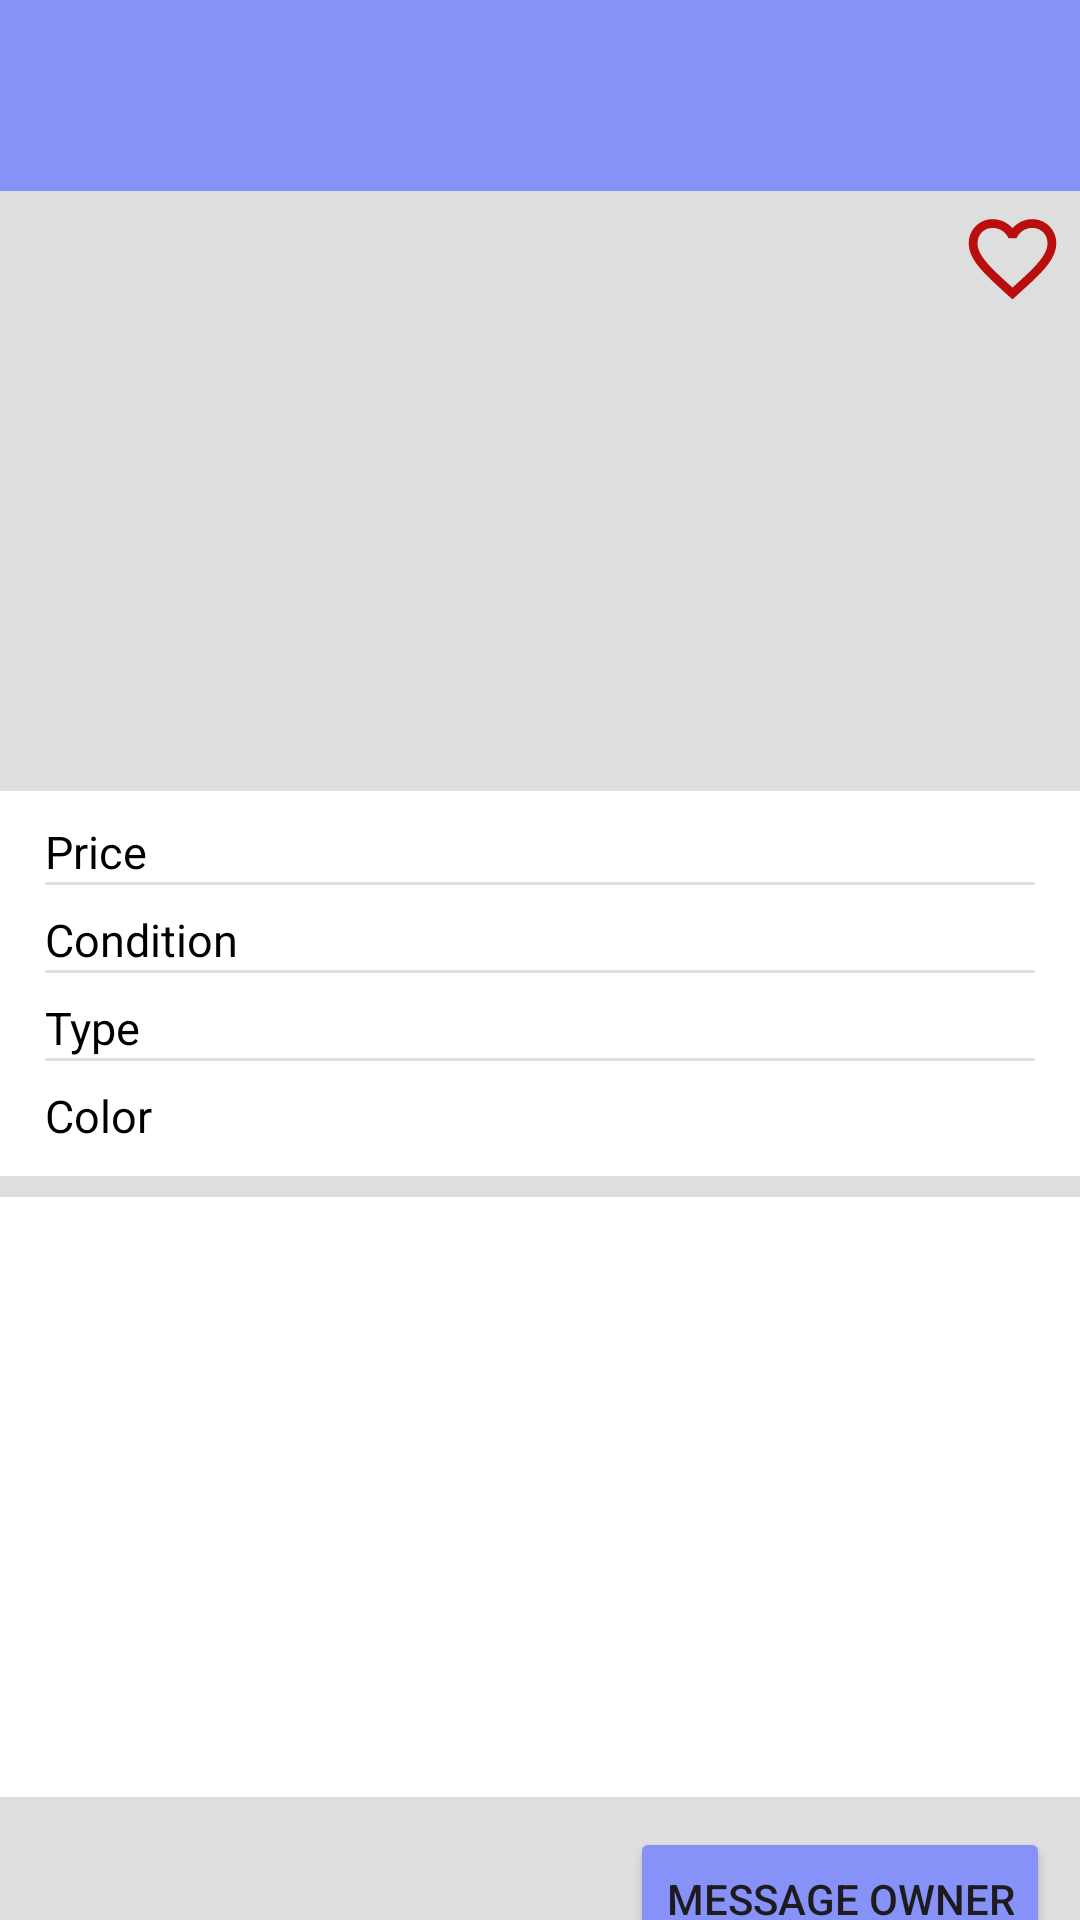

Icon bounding boxes for this 1080w x 1920h phone screenshot, format (x1, y1, x2, y2):
Add to favorites: (968, 219, 1057, 300)
